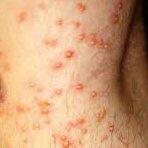Ants: (83, 30, 111, 54), (113, 131, 136, 148), (64, 118, 87, 130), (0, 49, 12, 71), (57, 134, 73, 147), (0, 78, 9, 101), (95, 105, 106, 122), (50, 59, 64, 71), (27, 80, 40, 91), (38, 99, 53, 108), (43, 38, 57, 46), (16, 105, 31, 112), (110, 13, 119, 24), (55, 18, 65, 27), (100, 132, 109, 142), (54, 89, 66, 96), (73, 83, 84, 90), (76, 3, 85, 11), (40, 108, 50, 115), (19, 12, 27, 20), (108, 124, 116, 132), (115, 1, 122, 10), (32, 122, 41, 129), (75, 34, 85, 40), (65, 51, 73, 58), (72, 20, 80, 27), (90, 91, 96, 97)
